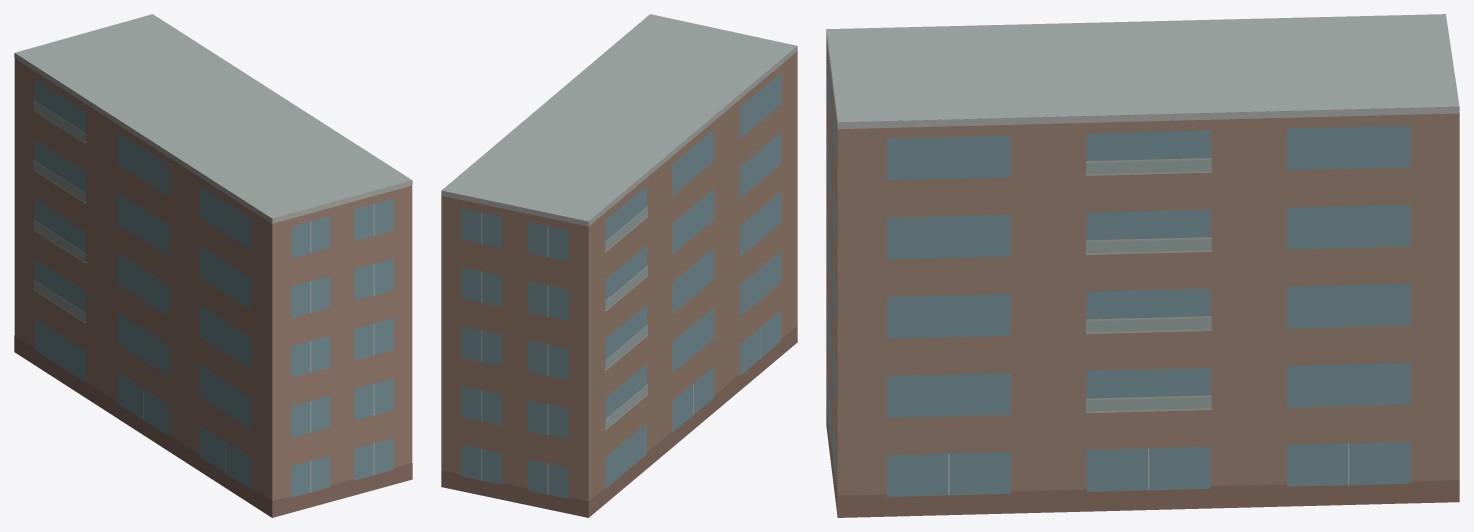
The model's file is survey-upis-32700521.glb.
The picture shows the model from 3 angles, left to right: view 1: azimuth 30°, elevation 25°; view 2: azimuth 150°, elevation 25°; view 3: azimuth 270°, elevation 25°; orthographic projection. The views are drawn at different scales.
Parts seen in each view (by area): view 1: survey-upis-32700521.tmp; view 2: survey-upis-32700521.tmp; view 3: survey-upis-32700521.tmp.
Boxes of the visible parts, box(x1,y1,x2,y2) form: survey-upis-32700521.tmp: box(14, 14, 412, 517); survey-upis-32700521.tmp: box(441, 14, 797, 517); survey-upis-32700521.tmp: box(826, 14, 1459, 517).
Bounding box in the file's own units: 8.2 × 13.95 × 20.25.
